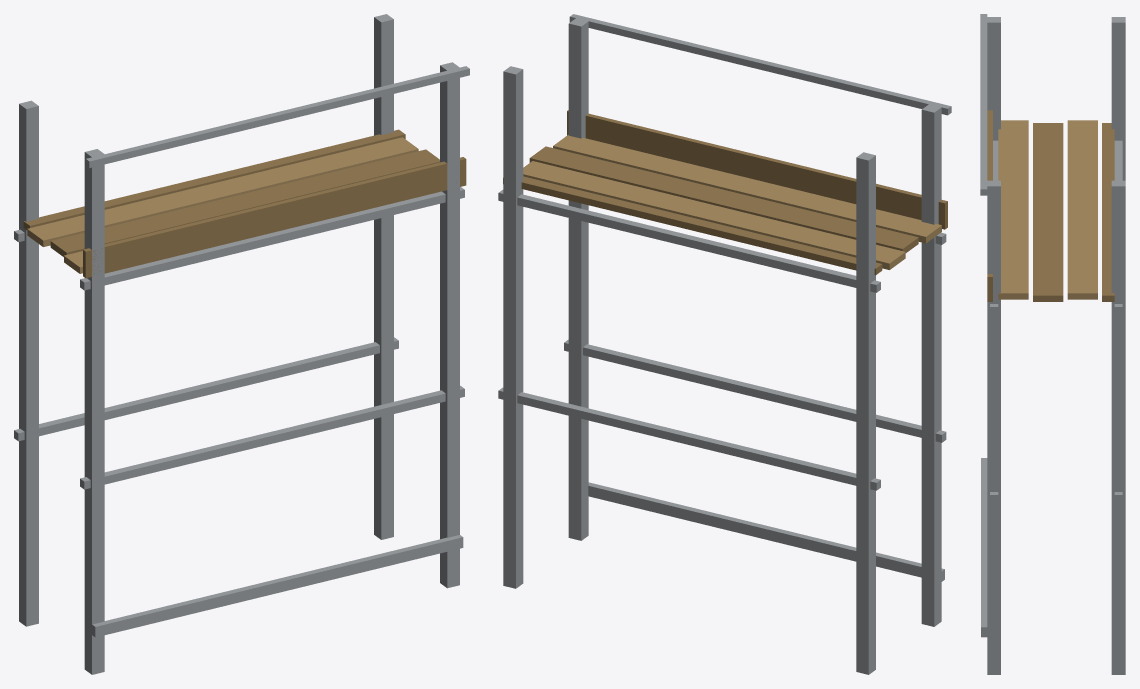
File: con_scaffold.glb
3 renders of one model, left to right at view 1: azimuth 30°, elevation 25°; view 2: azimuth 150°, elevation 25°; view 3: azimuth 270°, elevation 25°, orthographic. The views are drawn at different scales.
Parts seen in each view (by area): view 1: con_scaffold; view 2: con_scaffold; view 3: con_scaffold.
Part boxes in pixels (<box>): con_scaffold: <box>14,14,469,674</box>; con_scaffold: <box>498,14,951,674</box>; con_scaffold: <box>980,14,1125,674</box>.
Bounding box in the file's own units: 3 × 3.9 × 1.05.
